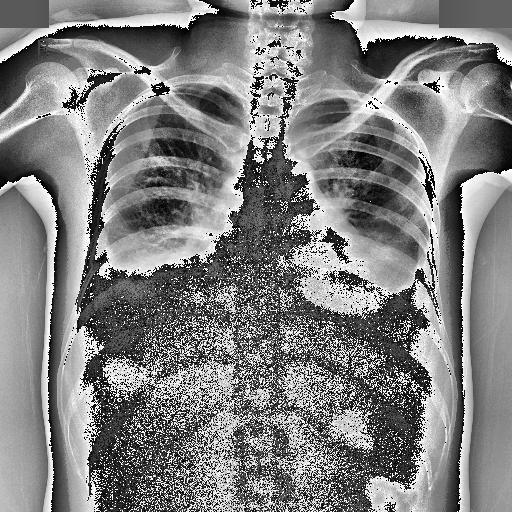10- Pleural effusion: (77, 216, 209, 356), (272, 238, 434, 328), (327, 236, 438, 352), (88, 238, 234, 323), (82, 244, 118, 292), (406, 247, 438, 300)
11- Pleural thickening: (82, 244, 118, 292), (406, 247, 438, 300)
3- Cardiomegaly: (179, 226, 416, 302)
4- Consolidation: (110, 250, 196, 292)
7- Lung Opacity: (110, 250, 196, 292)
